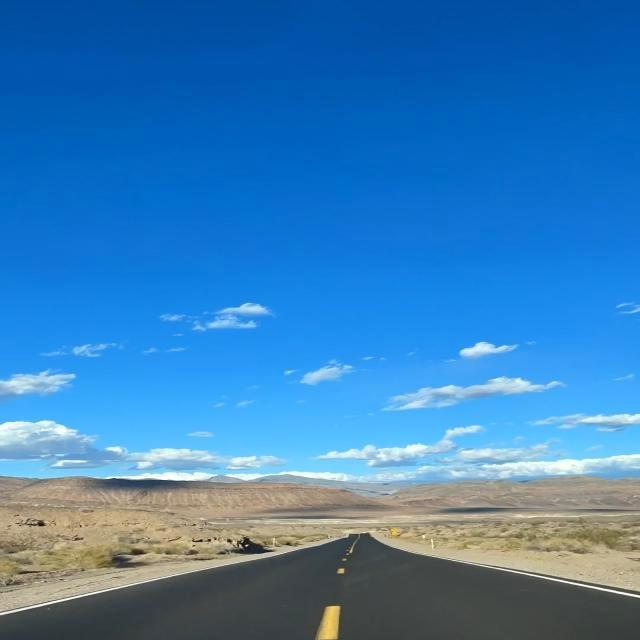lane: (315, 606, 341, 639)
road: (0, 534, 639, 639)
